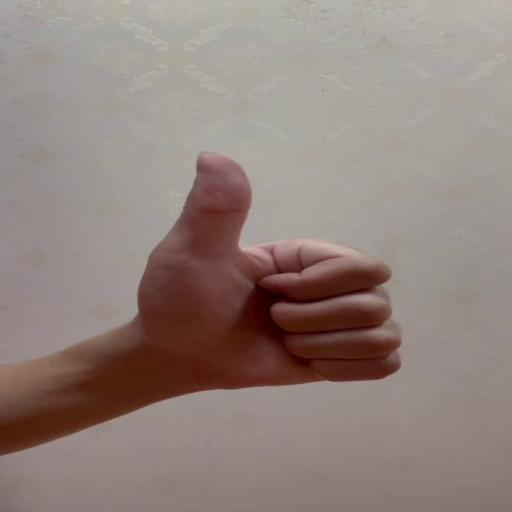thumbs_up: (150, 150, 406, 391)
